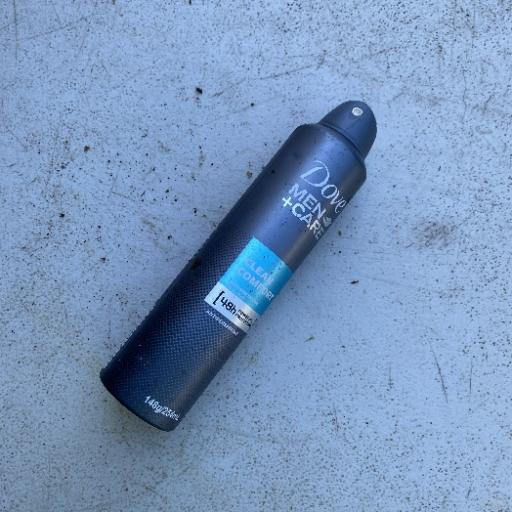Metal: (97, 98, 378, 433)
